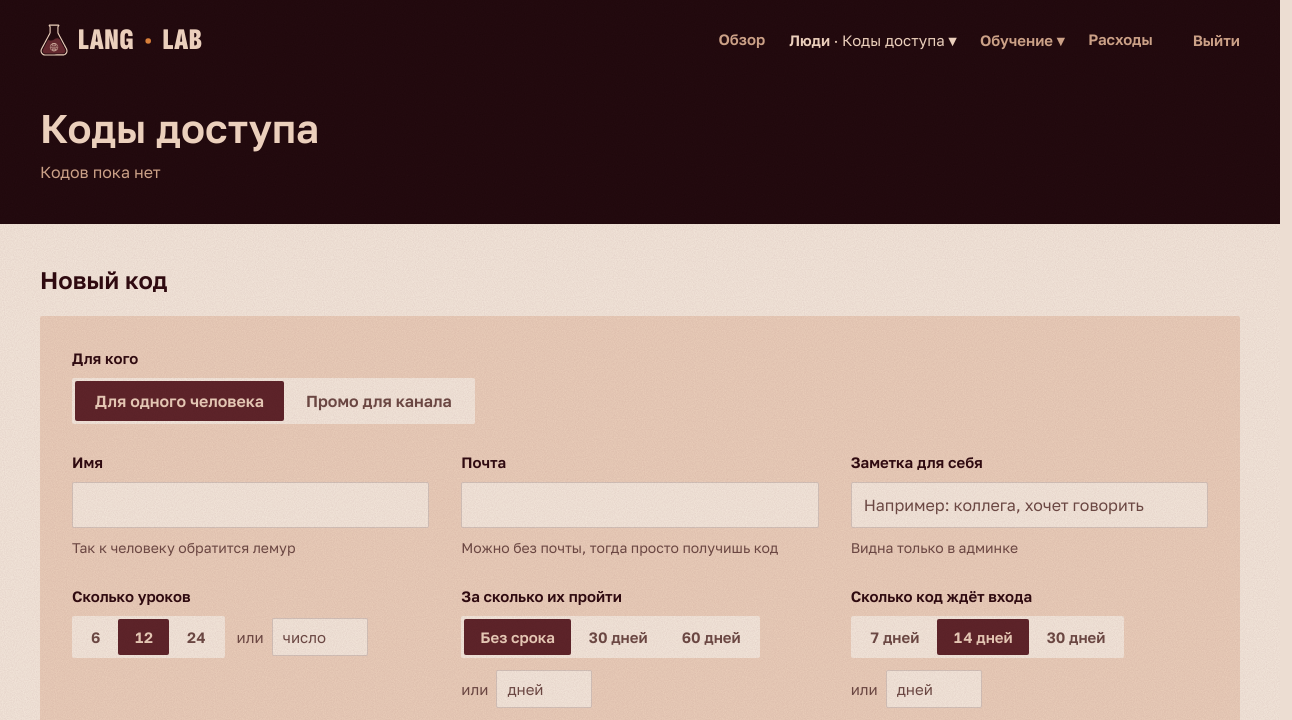
Test: codes › a promo: how many may come in, where it is posted
Click the button "Промо для канала": point(379, 401) [286,381,472,421]
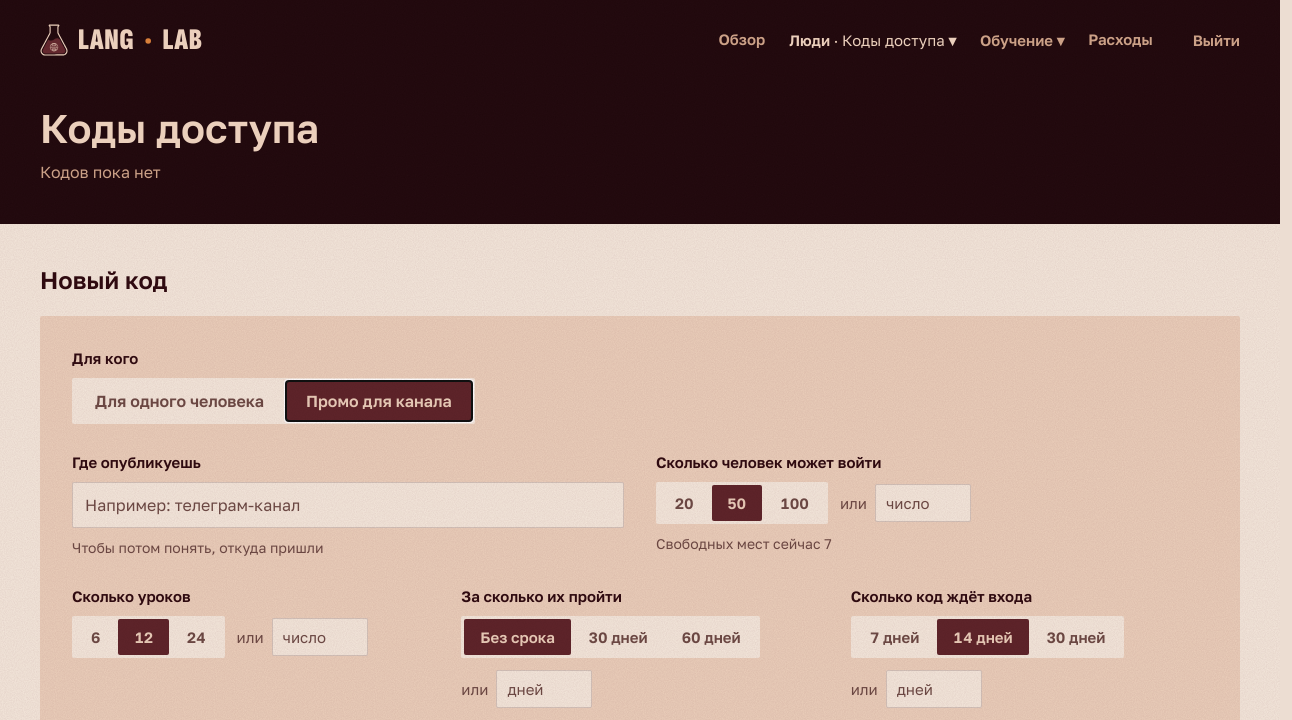
Result: the text "Свободных мест сейчас 7" is shown at [656,535,832,552]
In the field labelled "Где опубликуешь": point(348, 505) [72,482,624,528], type "телеграм"
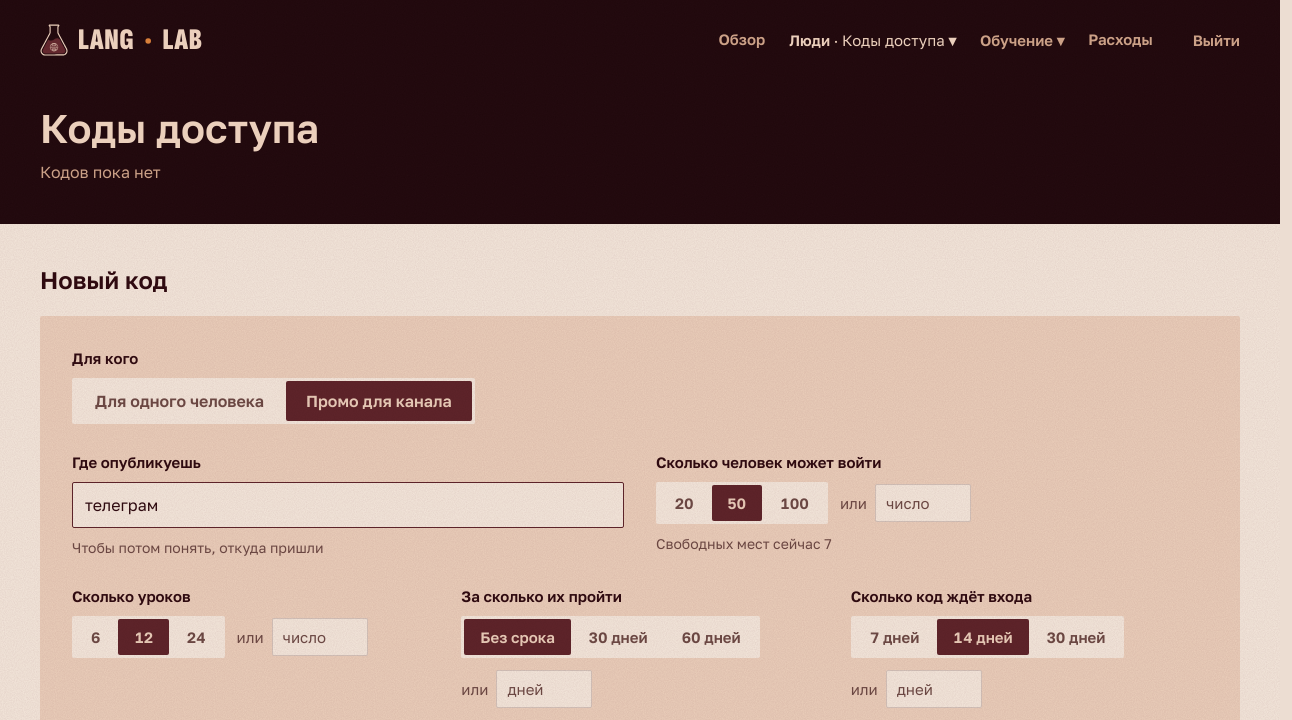
Click the button "100": point(795, 503) [764,485,825,521]
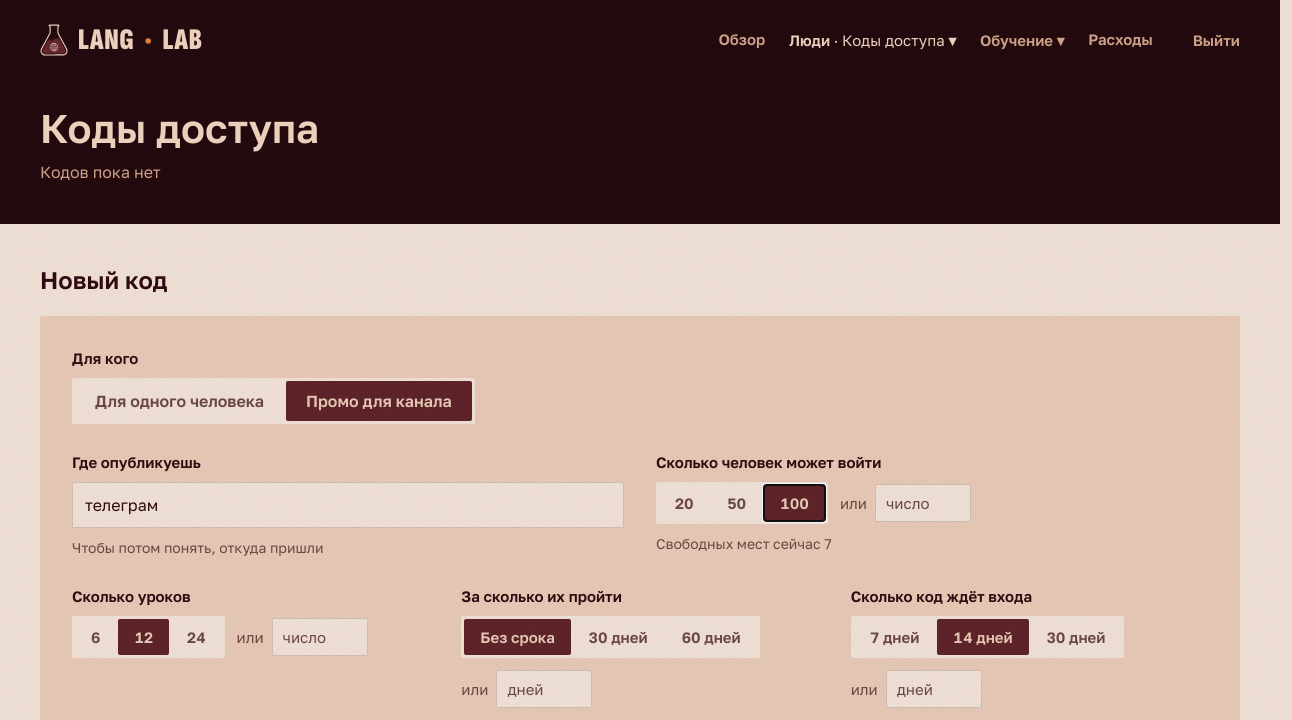
Click the button "6": point(96, 637) [75,619,116,655]
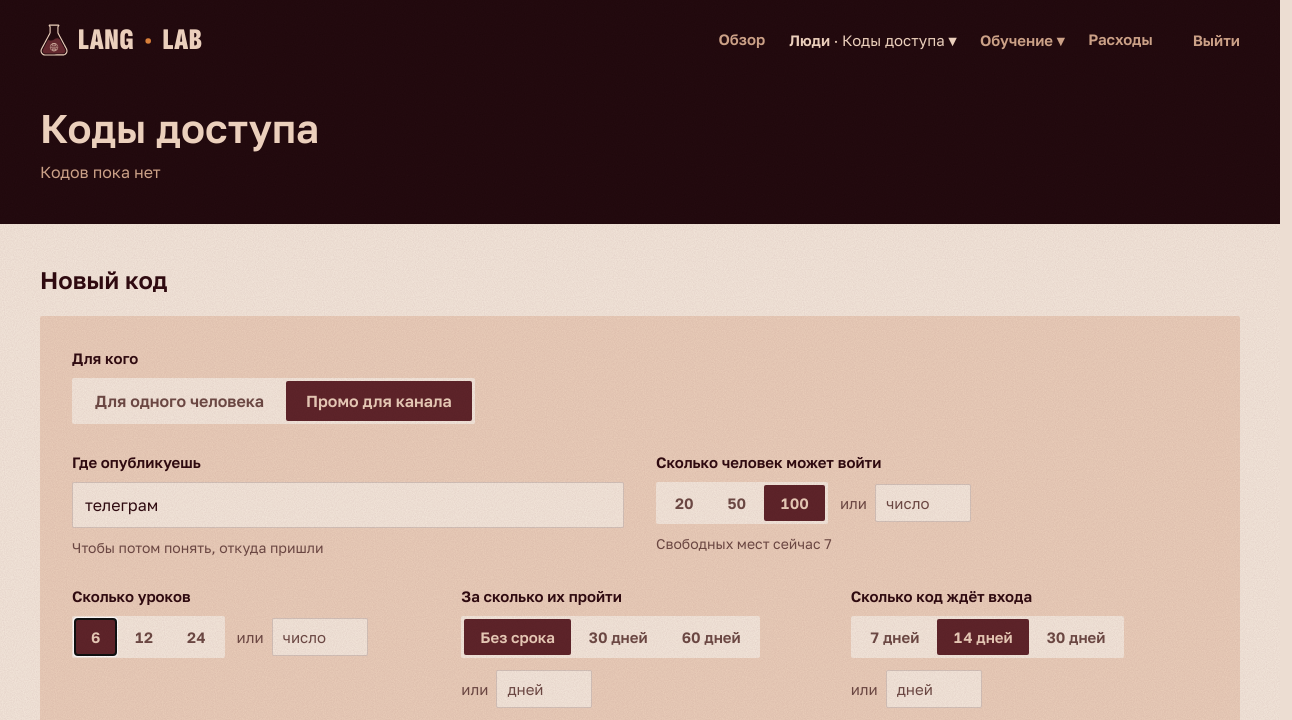
Click the button "30 дней" below "За сколько их пройти": point(618, 637) [573,619,664,655]
(page scrolled)
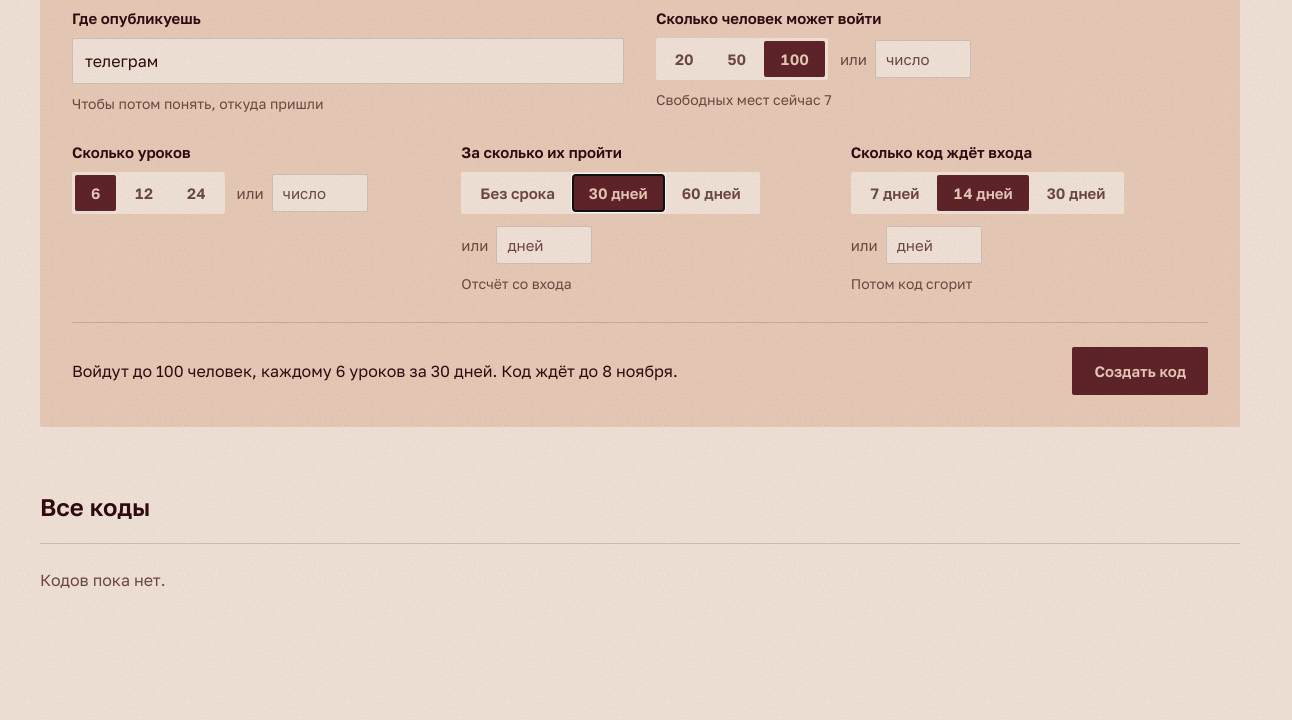
Result: the text "Войдут до 100 человек, каждому 6 уроков за 30 дней" is shown at [72,361,678,381]
Click the button "Создать код": point(1140, 371) [1072,347,1208,395]
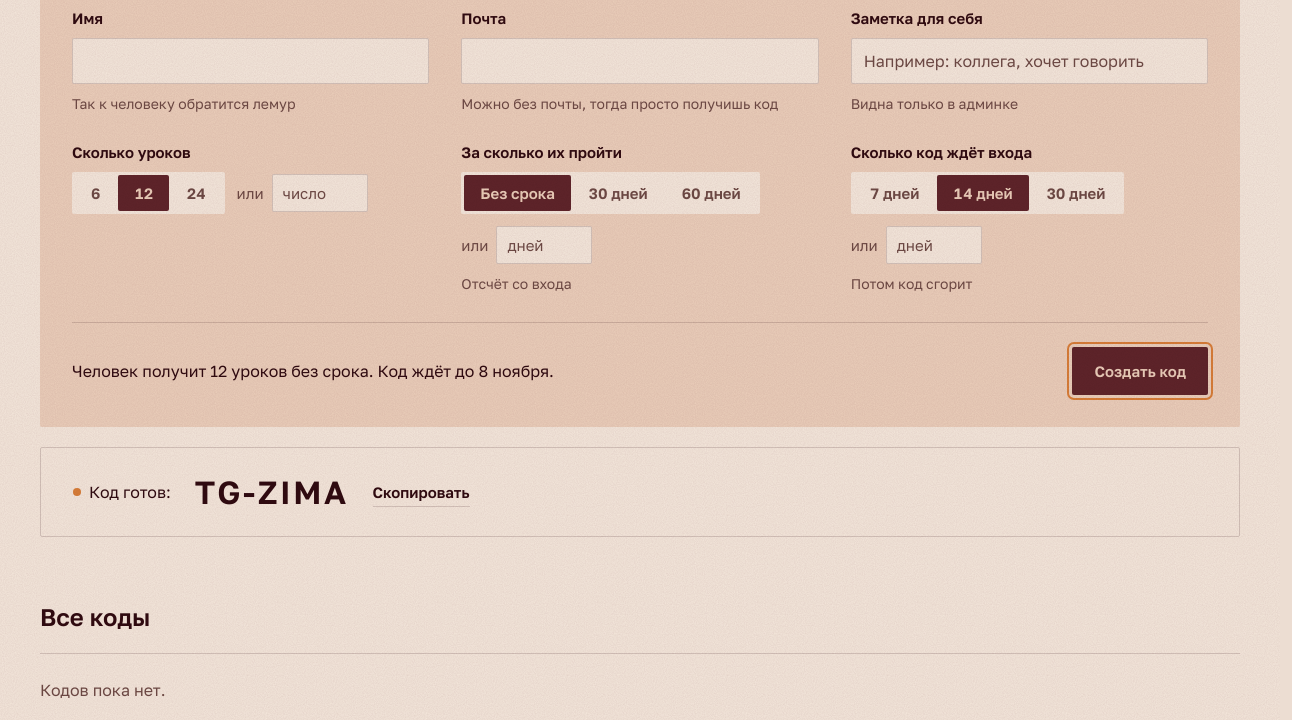
Result: the text "Код готов:" is shown at [73,480,171,504]
